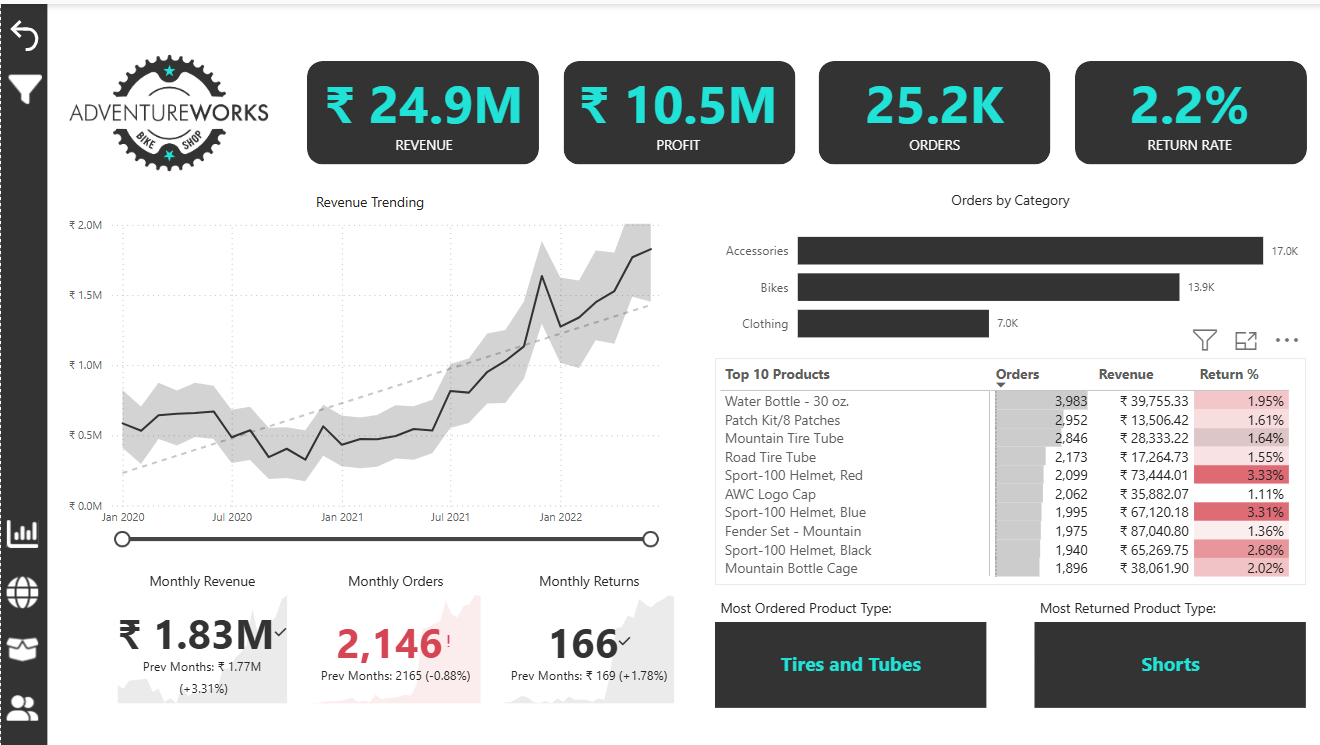

This screenshot's page, from the dashboard's own definition file:
{"tool":"powerbi","page":{"name":"Executive Dashboard","canvas":[1280,720],"ordinal":0},"visuals":[{"type":"image","title":"AW Logo","box":[45.3,30.8,236.4,150.6],"z":0},{"type":"card","fields":{"Values":["Measure Table.Return Rate"]},"box":[1034.7,50.2,236.4,106.9],"z":0,"group":"g2"},{"type":"group","id":"g1","title":"KPI Backgrounds","box":[296.4,56.1,969.9,100.4],"z":0,"group":"g3"},{"type":"shape","box":[296.4,56.1,225.1,100.4],"z":0,"group":"g1"},{"type":"actionButton","box":[1.2,607.8,45.3,38.9],"z":0,"group":"g4"},{"type":"shape","title":"Left Nav Background","box":[0,0,45,720.6],"z":1000},{"type":"group","id":"g2","title":"KPI Values","box":[291.9,50.2,979.2,106.9],"z":1000,"group":"g3"},{"type":"card","fields":{"Values":["Measure Table.Total Orders"]},"box":[786.6,50.2,236.4,106.9],"z":1000,"group":"g2"},{"type":"shape","box":[544.7,56.1,225.1,100.4],"z":1000,"group":"g1"},{"type":"actionButton","box":[1.2,495.5,45.3,38.9],"z":1000,"group":"g4"},{"type":"group","id":"g3","title":"KPIs","box":[291.9,50.2,979.2,106.9],"z":2000},{"type":"card","fields":{"Values":["Measure Table.Total Profit"]},"box":[538.5,50.2,236.4,106.9],"z":2000,"group":"g2"},{"type":"shape","box":[793,56.1,225.1,100.4],"z":2000,"group":"g1"},{"type":"actionButton","box":[1.2,663.9,45.3,38.9],"z":2000,"group":"g4"},{"type":"card","fields":{"Values":["Measure Table.Total Revenue"]},"box":[291.9,50.2,235,106.5],"z":3000,"group":"g2"},{"type":"shape","box":[1041.2,56.1,225.1,100.4],"z":3000,"group":"g1"},{"type":"lineChart","title":"Revenue Trending","fields":{"Y":["Measure Table.Total Revenue"],"Category":["Calendar Lookup.Start of Month"]},"box":[60,181.7,596.7,348.3],"z":3000},{"type":"actionButton","box":[1.2,551.6,45.3,38.9],"z":3000,"group":"g4"},{"type":"kpi","title":"Monthly Revenue","fields":{"Indicator":["Measure Table.Total Revenue"],"TrendLine":["Calendar Lookup.Start of Month"],"Goal":["Measure Table.Previous Month Revenue"]},"box":[108.3,549.7,175,133.3],"z":4000},{"type":"kpi","title":"Monthly Orders","fields":{"TrendLine":["Calendar Lookup.Start of Month"],"Goal":["Measure Table.Previous Month Orders"],"Indicator":["Measure Table.Total Orders"]},"box":[295.8,549.7,175,133.3],"z":5000},{"type":"kpi","title":"Monthly Returns","fields":{"TrendLine":["Calendar Lookup.Start of Month"],"Indicator":["Measure Table.Total Returns"],"Goal":["Measure Table.Previous Month Returns"]},"box":[483.3,549.7,175,133.3],"z":6000},{"type":"clusteredBarChart","title":"Orders by Category","fields":{"Category":["Product Categories Lookup.CategoryName"],"Y":["Measure Table.Total Orders"]},"box":[693.3,180,573.3,163.3],"z":7000},{"type":"pivotTable","fields":{"Rows":["Product Lookup.ProductName"],"Values":["Measure Table.Total Orders","Measure Table.Total Revenue","Measure Table.Return Rate"]},"box":[693.3,343.3,573.3,220],"z":8000},{"type":"card","fields":{"Values":["Min(Product Subcategories Lookup.SubcategoryName)"]},"box":[693.3,600,263,83.3],"z":9000},{"type":"textbox","box":[693.3,570,186.7,30],"z":10000},{"type":"card","fields":{"Values":["Min(Product Subcategories Lookup.SubcategoryName)"]},"box":[1003.3,600,263.3,83.3],"z":11000},{"type":"textbox","box":[1003.3,570,186.7,30],"z":12000},{"type":"actionButton","box":[0,9.7,45.3,40.5],"z":13000},{"type":"group","id":"g4","title":"Navigation Buttons","box":[1.2,495.5,45.3,207.3],"z":14000},{"type":"actionButton","box":[0,63.1,47,40.5],"z":15000}]}

Visuals, with their boxes on the page's 1280x720 design canvas (x1, y1, x2, y2). These are canvas units, not pixel positions in the 1320x745 screenshot, which may show the page scaled, cropped or inside an application window:
"AW Logo" image: box=[45, 31, 282, 181]
card - Measure Table.Return Rate: box=[1035, 50, 1271, 157]
"KPI Backgrounds" group: box=[296, 56, 1266, 156]
shape: box=[296, 56, 522, 156]
actionButton: box=[1, 608, 46, 647]
"Left Nav Background" shape: box=[0, 0, 45, 721]
"KPI Values" group: box=[292, 50, 1271, 157]
card - Measure Table.Total Orders: box=[787, 50, 1023, 157]
shape: box=[545, 56, 770, 156]
actionButton: box=[1, 496, 46, 534]
"KPIs" group: box=[292, 50, 1271, 157]
card - Measure Table.Total Profit: box=[538, 50, 775, 157]
shape: box=[793, 56, 1018, 156]
actionButton: box=[1, 664, 46, 703]
card - Measure Table.Total Revenue: box=[292, 50, 527, 157]
shape: box=[1041, 56, 1266, 156]
"Revenue Trending" lineChart: box=[60, 182, 657, 530]
actionButton: box=[1, 552, 46, 590]
"Monthly Revenue" kpi: box=[108, 550, 283, 683]
"Monthly Orders" kpi: box=[296, 550, 471, 683]
"Monthly Returns" kpi: box=[483, 550, 658, 683]
"Orders by Category" clusteredBarChart: box=[693, 180, 1267, 343]
pivotTable - Product Lookup.ProductName x Measure Table.Total Orders: box=[693, 343, 1267, 563]
card - Min(Product Subcategories Lookup.SubcategoryName): box=[693, 600, 956, 683]
textbox: box=[693, 570, 880, 600]
card - Min(Product Subcategories Lookup.SubcategoryName): box=[1003, 600, 1267, 683]
textbox: box=[1003, 570, 1190, 600]
actionButton: box=[0, 10, 45, 50]
"Navigation Buttons" group: box=[1, 496, 46, 703]
actionButton: box=[0, 63, 47, 104]
